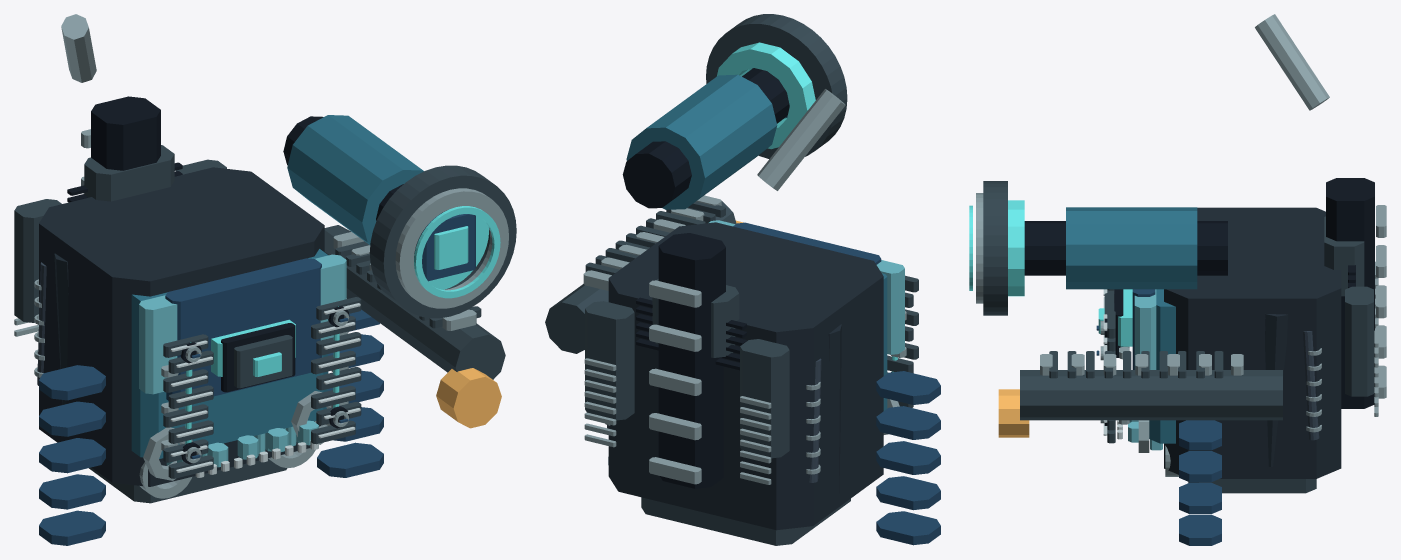
Rendered from enemy_marksman_4k_body.obj.
3 renders of one model, left to right at view 1: azimuth 30°, elevation 25°; view 2: azimuth 150°, elevation 25°; view 3: azimuth 270°, elevation 25°, orthographic. The views are drawn at different scales.
Size of the model in its own units: 1.18 by 1.51 by 1.36.
